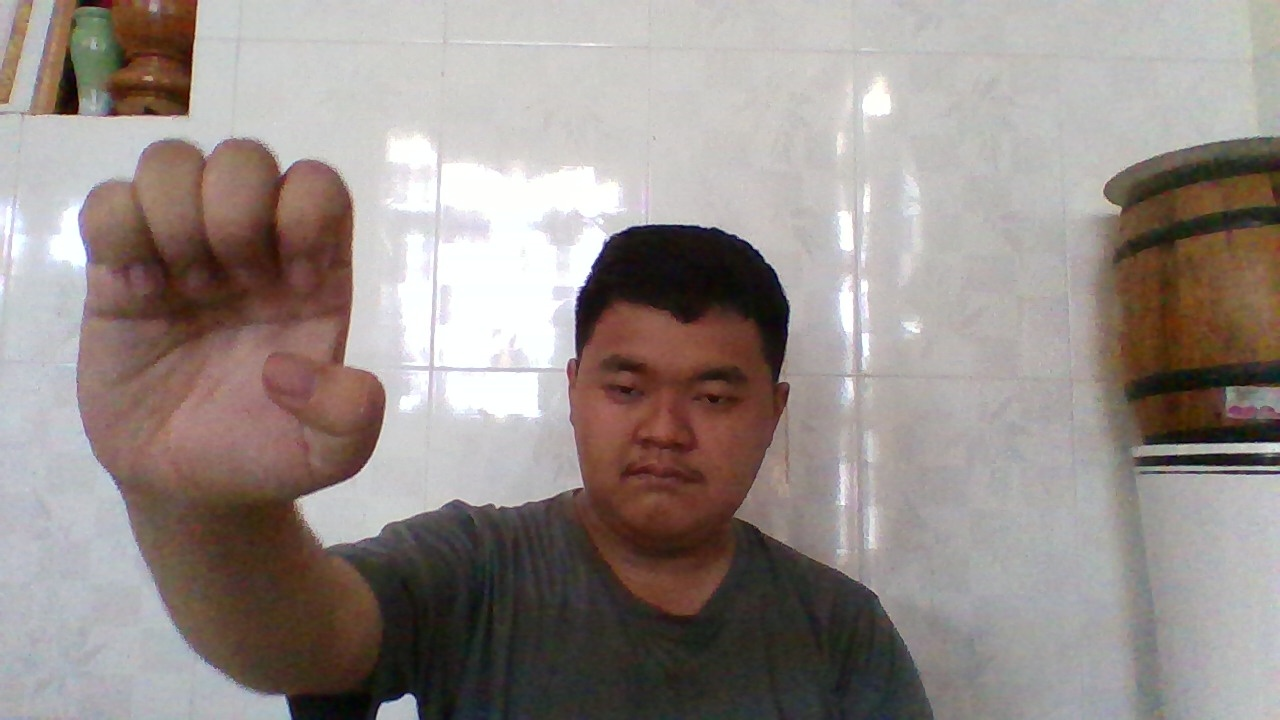E: (93, 134, 374, 504)
